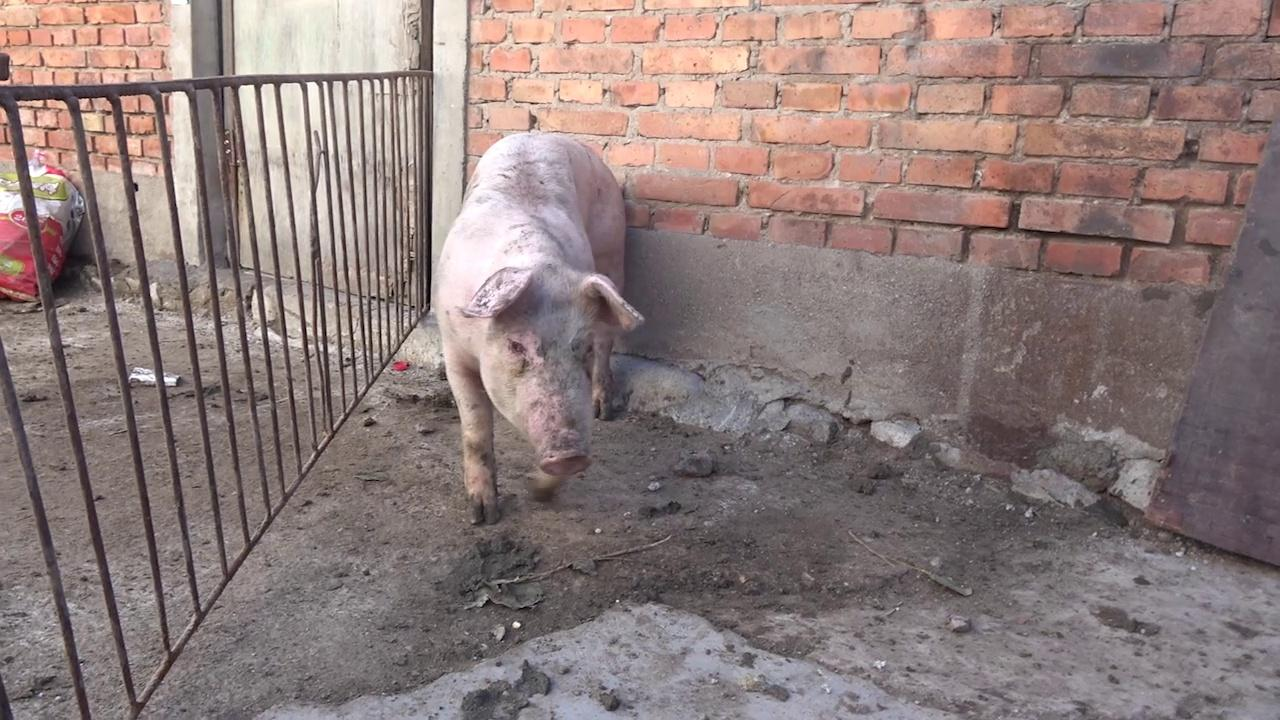Face: (452, 250, 668, 494)
